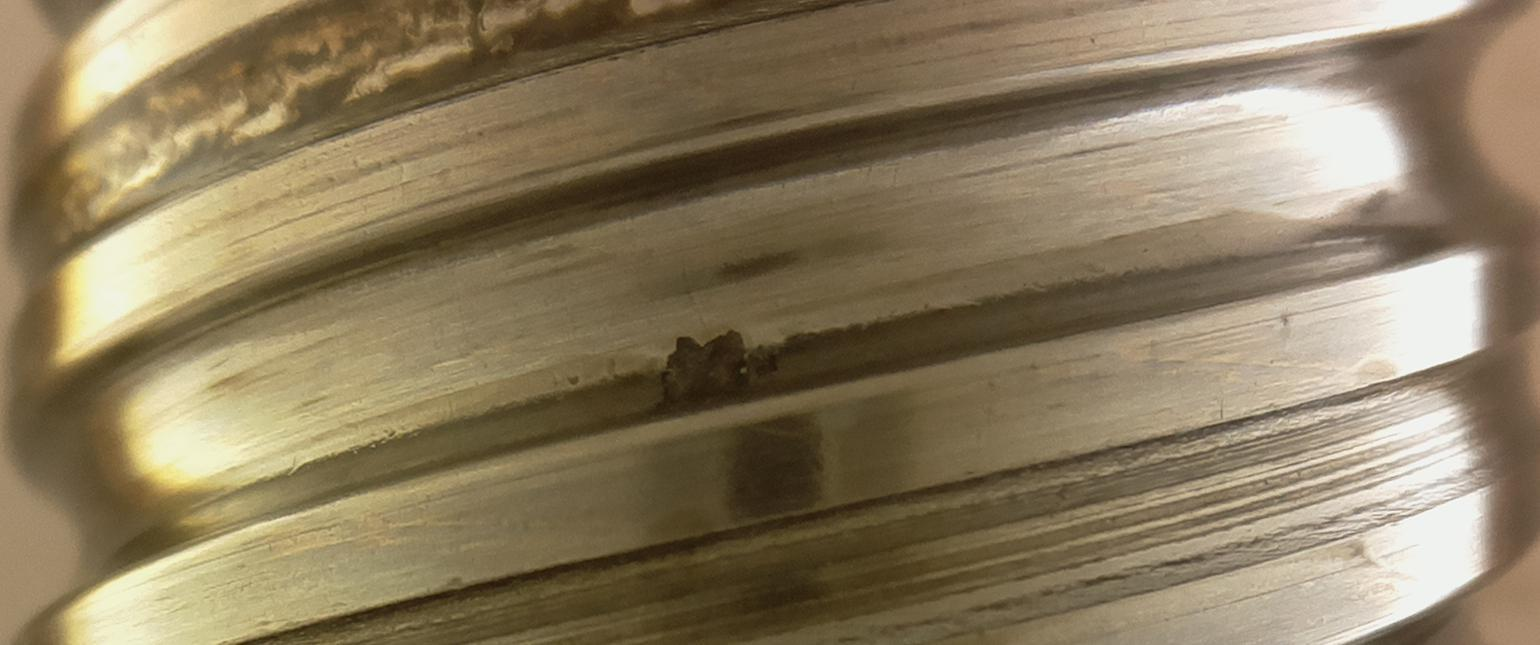pitting: (655, 330, 776, 415)
